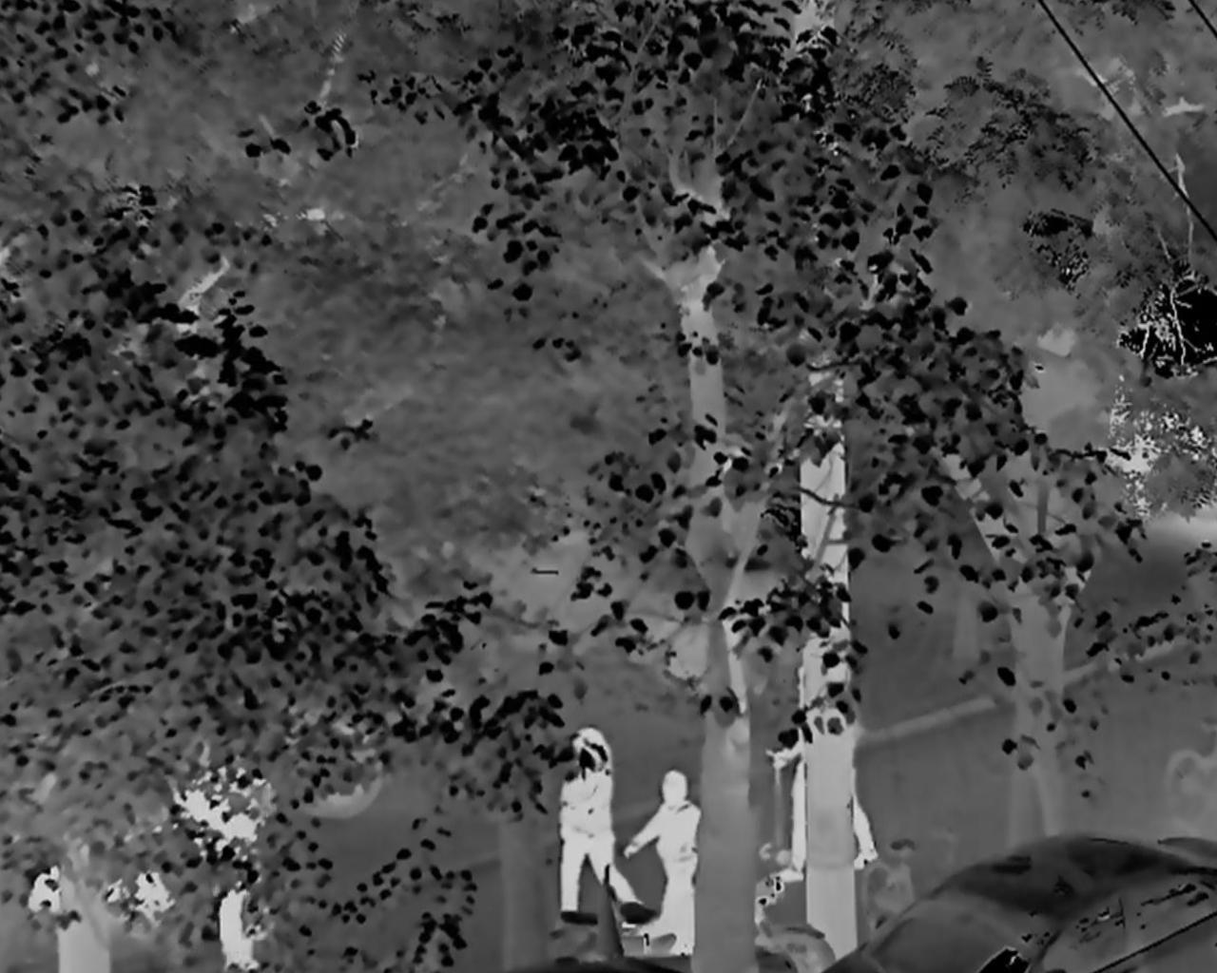person: (769, 669, 879, 886), (555, 723, 641, 929), (626, 770, 699, 956), (218, 876, 272, 973)
